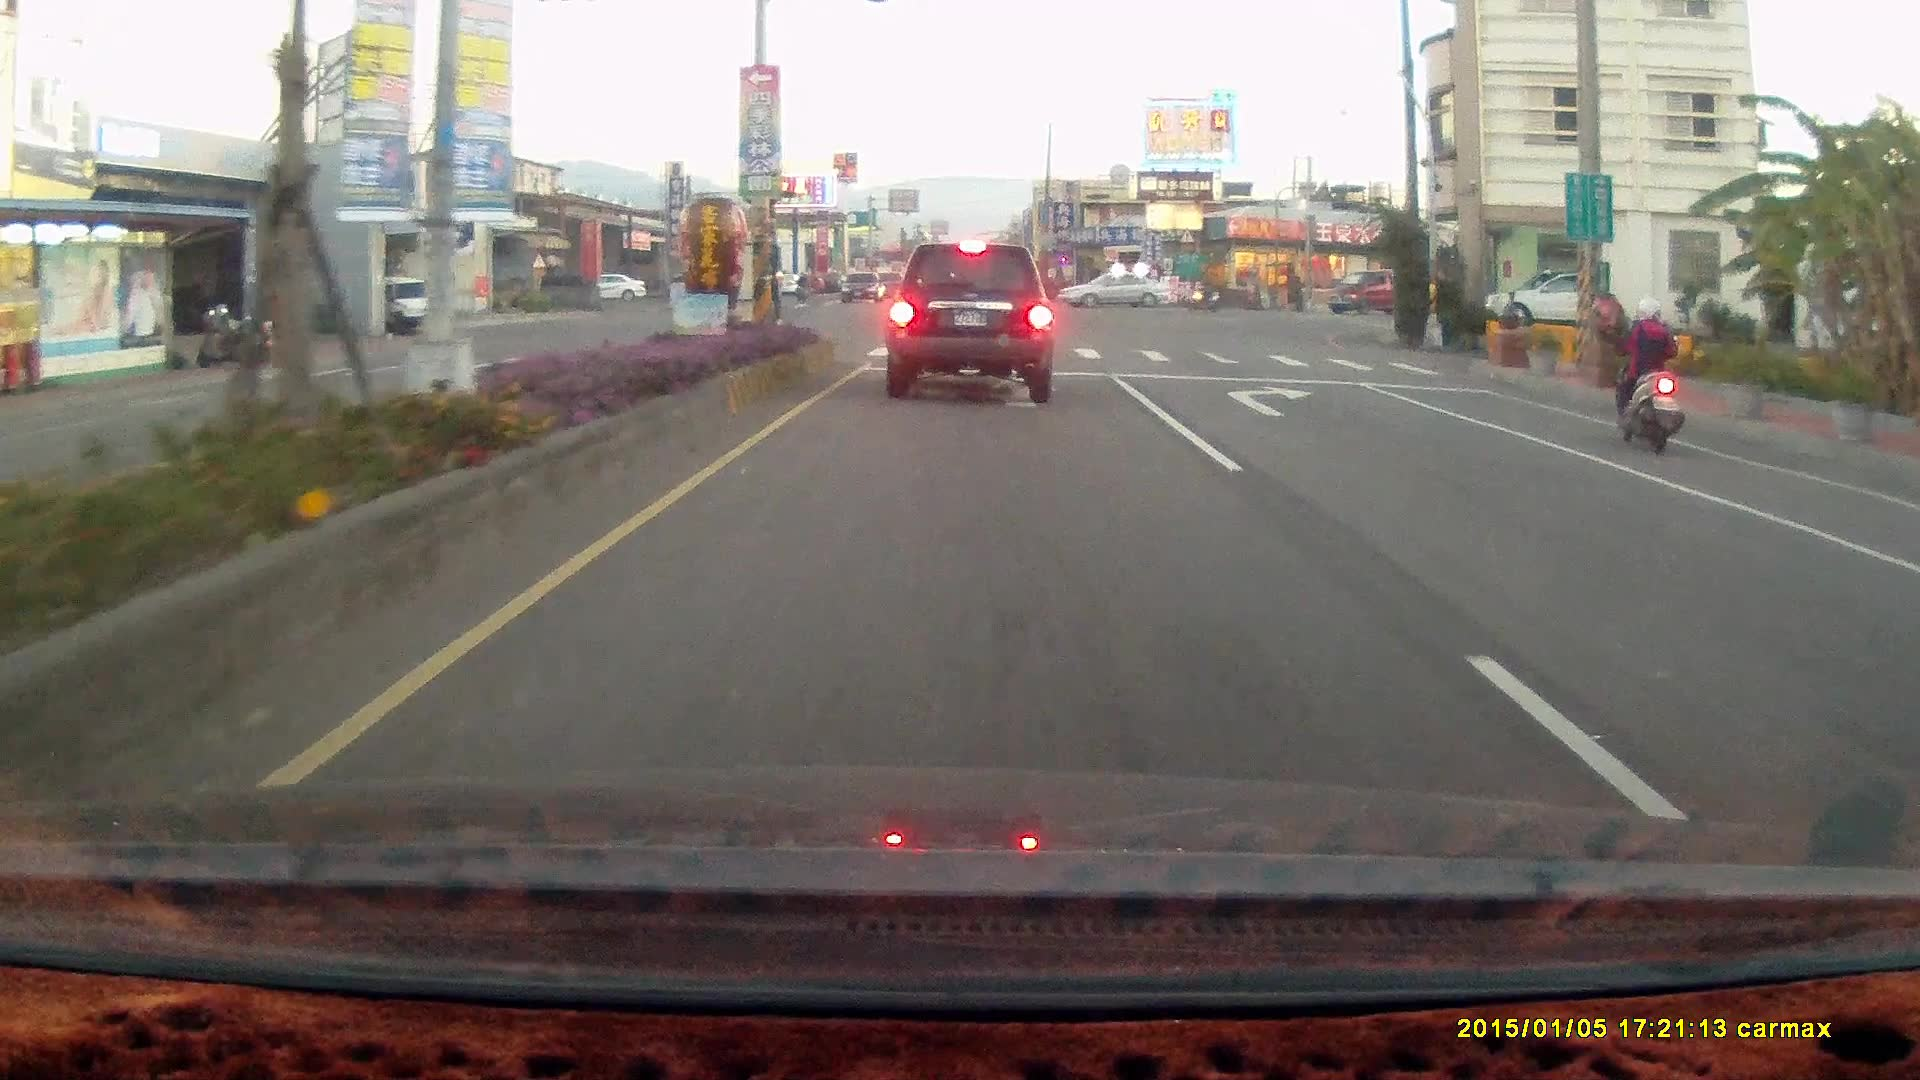rider: (1608, 294, 1686, 456), (1186, 272, 1223, 311)
vehicle: (885, 241, 1057, 400), (1484, 267, 1629, 332), (1896, 493, 1920, 836), (1487, 270, 1599, 332), (1883, 528, 1920, 690), (374, 274, 454, 336), (1324, 268, 1422, 314), (1062, 271, 1172, 311), (1060, 270, 1170, 308)
